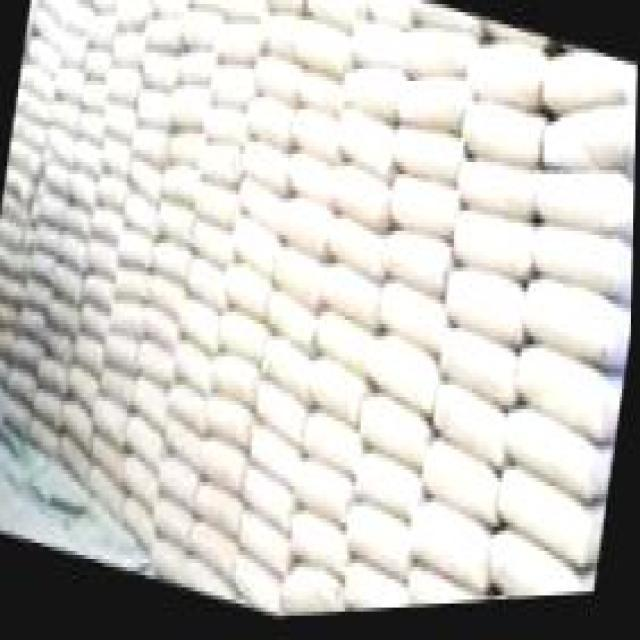gunny_bag: (500, 477, 608, 576), (509, 412, 617, 510), (520, 359, 626, 447), (525, 294, 633, 375), (424, 439, 506, 538), (431, 391, 509, 482), (533, 235, 634, 301), (411, 506, 496, 584), (452, 214, 535, 289), (448, 279, 526, 356), (495, 552, 600, 607), (537, 183, 636, 241), (463, 109, 544, 178), (268, 11, 351, 77), (442, 334, 517, 404), (355, 457, 423, 534), (347, 503, 413, 582), (549, 118, 637, 177), (370, 345, 441, 417), (544, 65, 638, 118), (360, 401, 434, 467), (391, 127, 465, 191), (382, 292, 446, 359), (461, 165, 538, 220), (470, 59, 544, 116), (315, 315, 380, 379), (303, 411, 368, 472), (322, 275, 385, 336), (245, 465, 296, 540), (329, 225, 385, 293), (404, 27, 473, 82), (339, 117, 397, 179), (278, 196, 334, 259), (298, 464, 356, 523), (241, 513, 293, 578), (207, 396, 257, 462), (400, 88, 464, 138), (330, 176, 387, 232), (268, 295, 319, 356), (384, 240, 442, 293), (191, 482, 245, 538), (256, 386, 305, 446), (266, 339, 315, 399), (275, 248, 322, 310), (203, 438, 250, 500), (287, 567, 344, 618), (183, 302, 228, 366), (293, 520, 348, 572), (395, 187, 452, 237), (245, 137, 290, 199), (253, 432, 302, 488), (235, 559, 283, 615), (131, 383, 176, 442), (234, 215, 278, 274), (415, 576, 483, 613), (347, 576, 407, 617), (219, 318, 268, 368), (94, 428, 131, 492), (225, 270, 271, 321), (212, 352, 257, 404), (125, 418, 168, 468), (345, 77, 393, 121), (355, 28, 404, 70), (159, 202, 200, 252), (63, 399, 97, 459), (197, 183, 238, 232), (171, 381, 211, 431), (306, 0, 363, 35), (188, 268, 229, 315), (147, 274, 188, 321), (191, 223, 233, 268), (99, 363, 140, 409), (70, 362, 102, 420), (212, 72, 256, 114), (295, 116, 336, 161), (202, 107, 252, 143), (158, 503, 195, 550), (198, 144, 238, 187), (88, 468, 125, 514), (297, 80, 339, 120), (163, 464, 200, 509), (143, 55, 179, 101), (133, 126, 171, 169), (110, 300, 147, 344), (84, 239, 119, 285), (169, 93, 211, 131), (139, 342, 174, 387), (114, 231, 154, 270), (217, 26, 258, 64), (130, 162, 163, 207), (185, 17, 225, 54), (37, 355, 73, 396), (48, 293, 82, 336), (176, 52, 215, 89), (61, 435, 91, 483), (47, 130, 78, 174), (52, 266, 86, 306), (14, 340, 48, 380), (37, 191, 69, 233), (162, 171, 198, 208), (105, 337, 140, 375), (33, 391, 66, 431), (63, 0, 94, 42), (90, 207, 125, 244), (113, 37, 147, 74), (0, 248, 32, 287), (99, 170, 129, 211), (76, 336, 105, 378), (55, 65, 85, 105), (9, 141, 41, 178), (108, 71, 141, 106), (5, 165, 36, 202), (78, 112, 108, 150), (17, 309, 49, 344), (46, 328, 76, 365), (59, 233, 88, 271), (104, 109, 136, 143), (70, 174, 98, 212), (201, 0, 259, 18), (147, 21, 180, 52), (369, 0, 415, 22), (84, 277, 112, 313), (7, 369, 37, 402), (102, 143, 132, 176), (0, 271, 24, 311), (0, 219, 27, 252), (141, 94, 170, 124), (75, 146, 104, 176), (117, 0, 148, 28), (85, 52, 110, 81), (68, 210, 91, 240), (83, 81, 105, 112), (267, 0, 302, 14)
